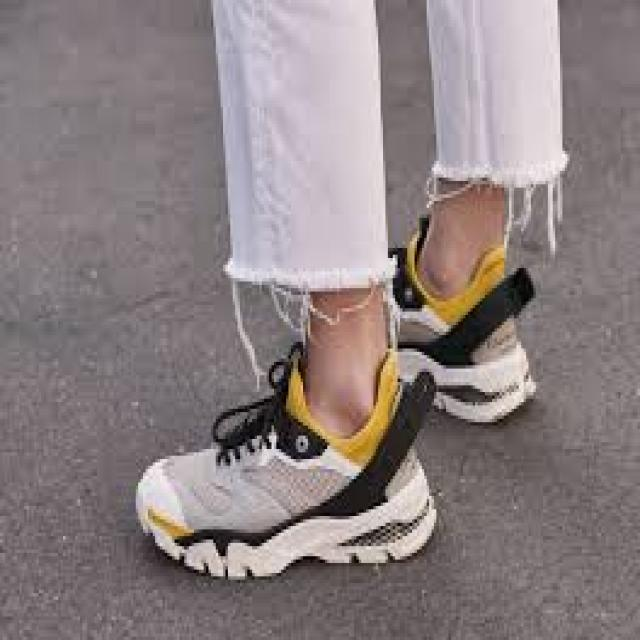shoes: (136, 343, 439, 599), (358, 236, 536, 429)
